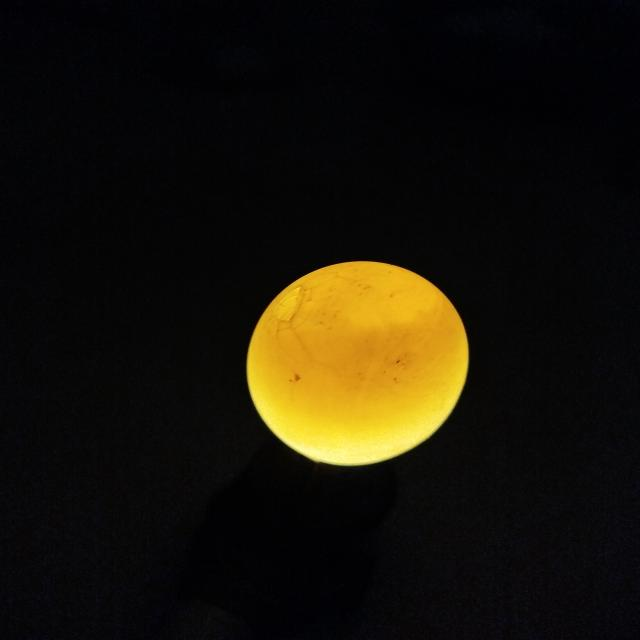Camara de Ar: (302, 261, 441, 325)
Rachadura: (272, 287, 317, 330)
